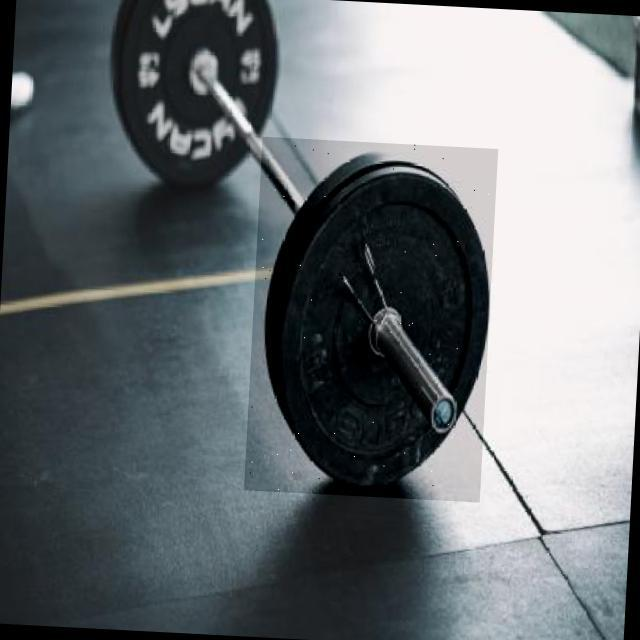barbell: (245, 138, 499, 504)
